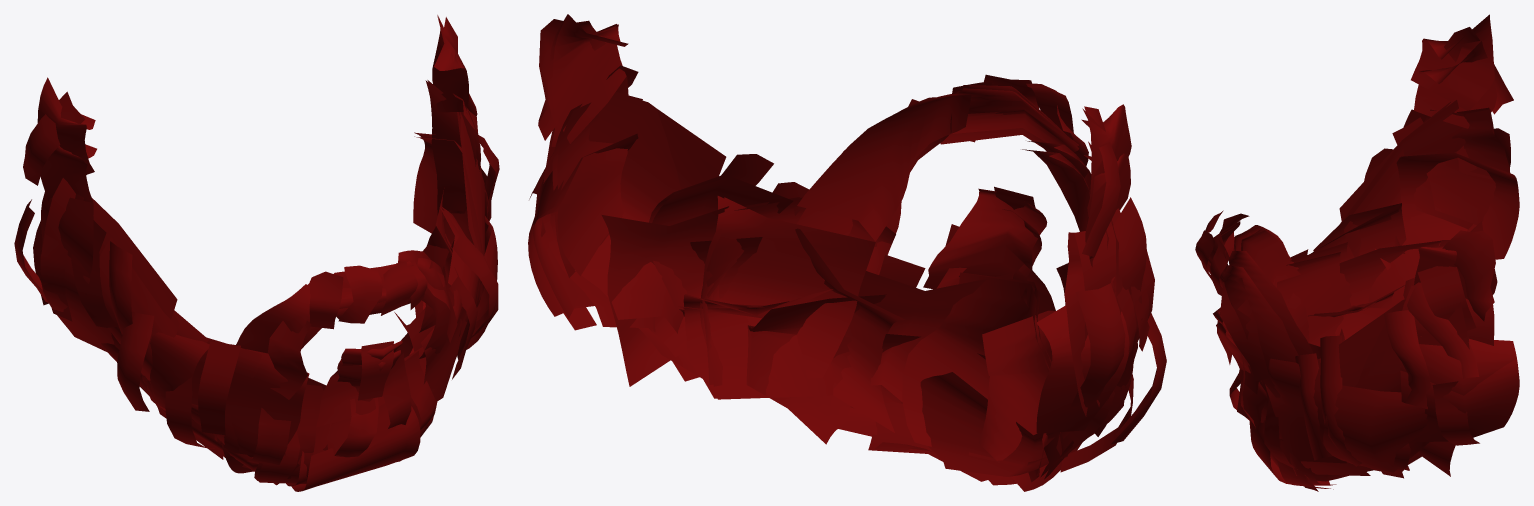
The model's file is beard.glb.
3 views of the same model, side by side, from view 1: azimuth 30°, elevation 25°; view 2: azimuth 150°, elevation 25°; view 3: azimuth 270°, elevation 25° (orthographic). The views are drawn at different scales.
Visible parts, largest first — view 1: BeardDetails_Var_02_Geo; view 2: BeardDetails_Var_02_Geo; view 3: BeardDetails_Var_02_Geo.
Part boxes in pixels (x1,y1,x2,y2): BeardDetails_Var_02_Geo: (14,15,499,491); BeardDetails_Var_02_Geo: (528,14,1166,491); BeardDetails_Var_02_Geo: (1195,14,1519,491).
Size of the model in its own units: 4.9 by 3.92 by 3.2.
